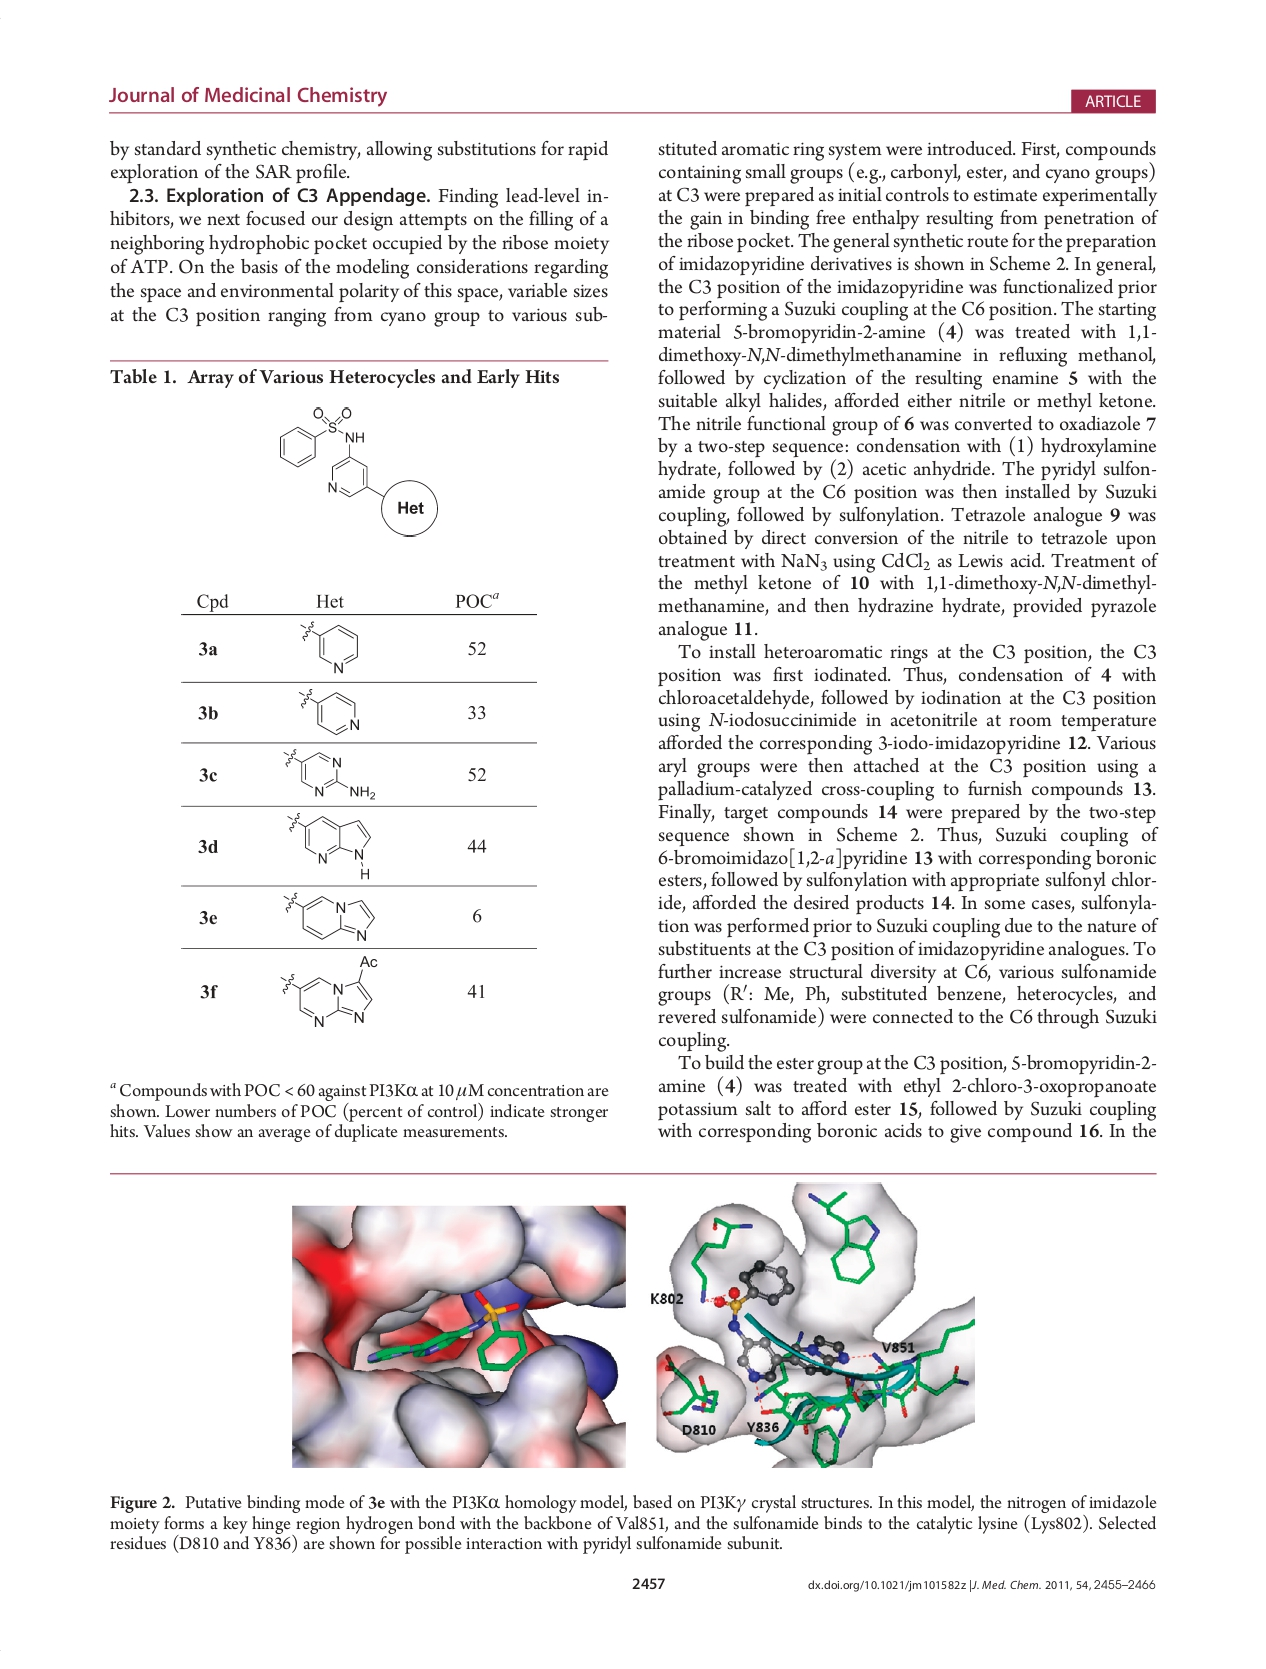exist_molecular: (277, 399, 442, 541), (277, 954, 380, 1031), (282, 809, 371, 880), (278, 743, 376, 802), (278, 891, 376, 940), (297, 618, 360, 677), (297, 688, 362, 738)
